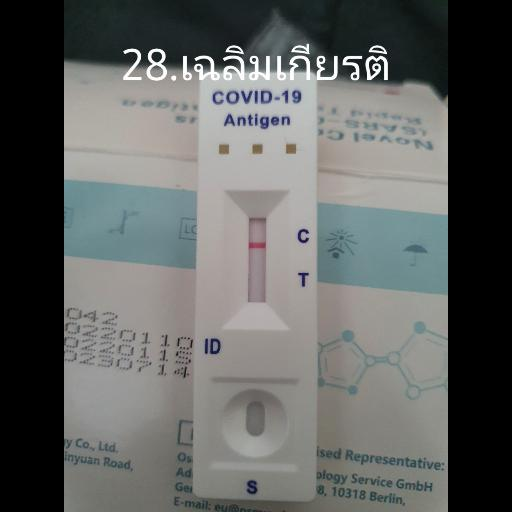Neg: (199, 70, 315, 502)
